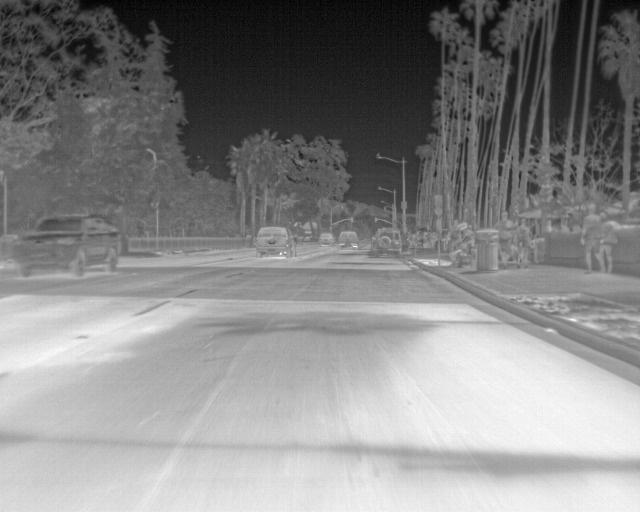bicycle: (11, 209, 126, 277), (249, 225, 295, 258), (367, 228, 403, 256), (331, 227, 358, 251), (314, 230, 334, 246)
empty: (581, 202, 602, 272), (597, 211, 617, 270)
